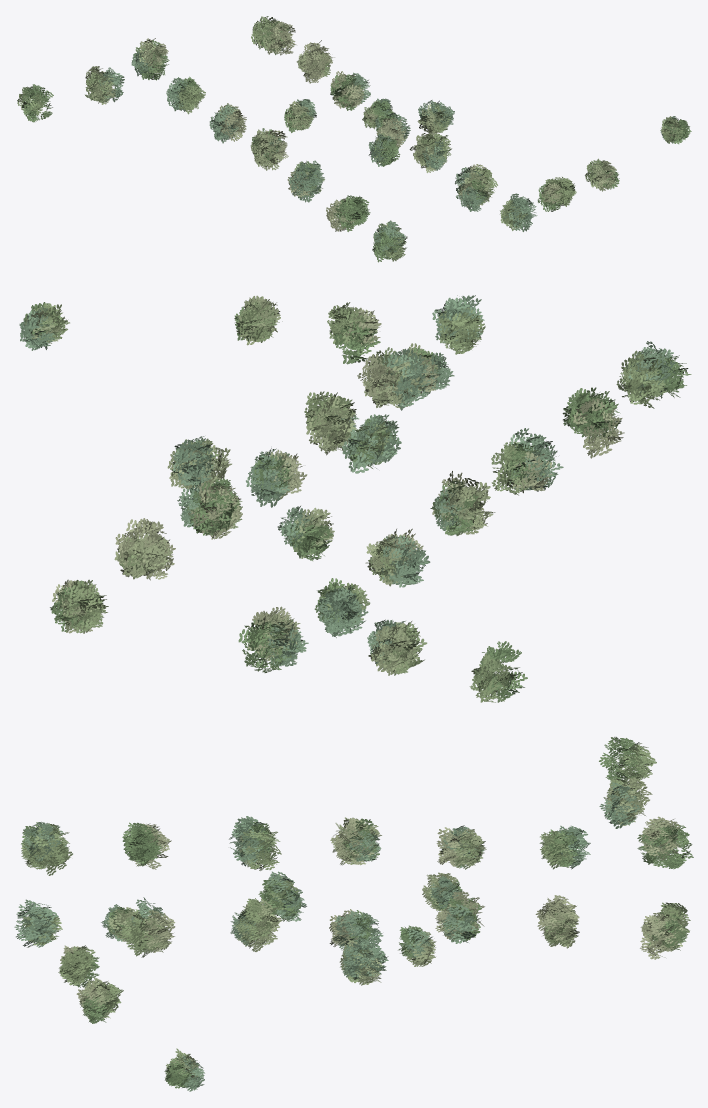
File: campus-tree-3_-4-middle.glb
3 renders of one model, top to bottom at view 1: azimuth 30°, elevation 25°; view 2: azimuth 150°, elevation 25°; view 3: azimuth 270°, elevation 25°, orthographic. The views are drawn at different scales.
Parts seen in each view (by area): view 1: Campus leaf canopy; view 2: Campus leaf canopy; view 3: Campus leaf canopy.
Part boxes in pixels (x1,y1,x2,y2): Campus leaf canopy: (17,16,691,262); Campus leaf canopy: (19,295,691,702); Campus leaf canopy: (14,737,693,1091).
Bounding box in the file's own units: 79.57 × 7.97 × 73.65.
1 material, 1 textured.
